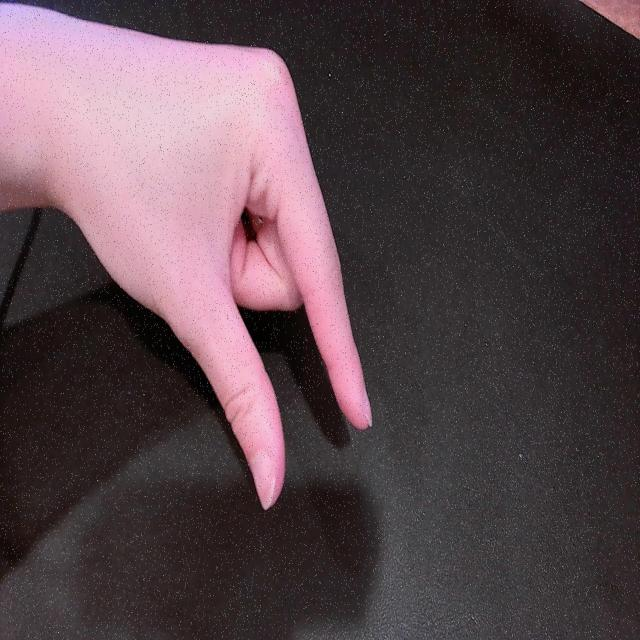Q: (49, 13, 379, 521)
